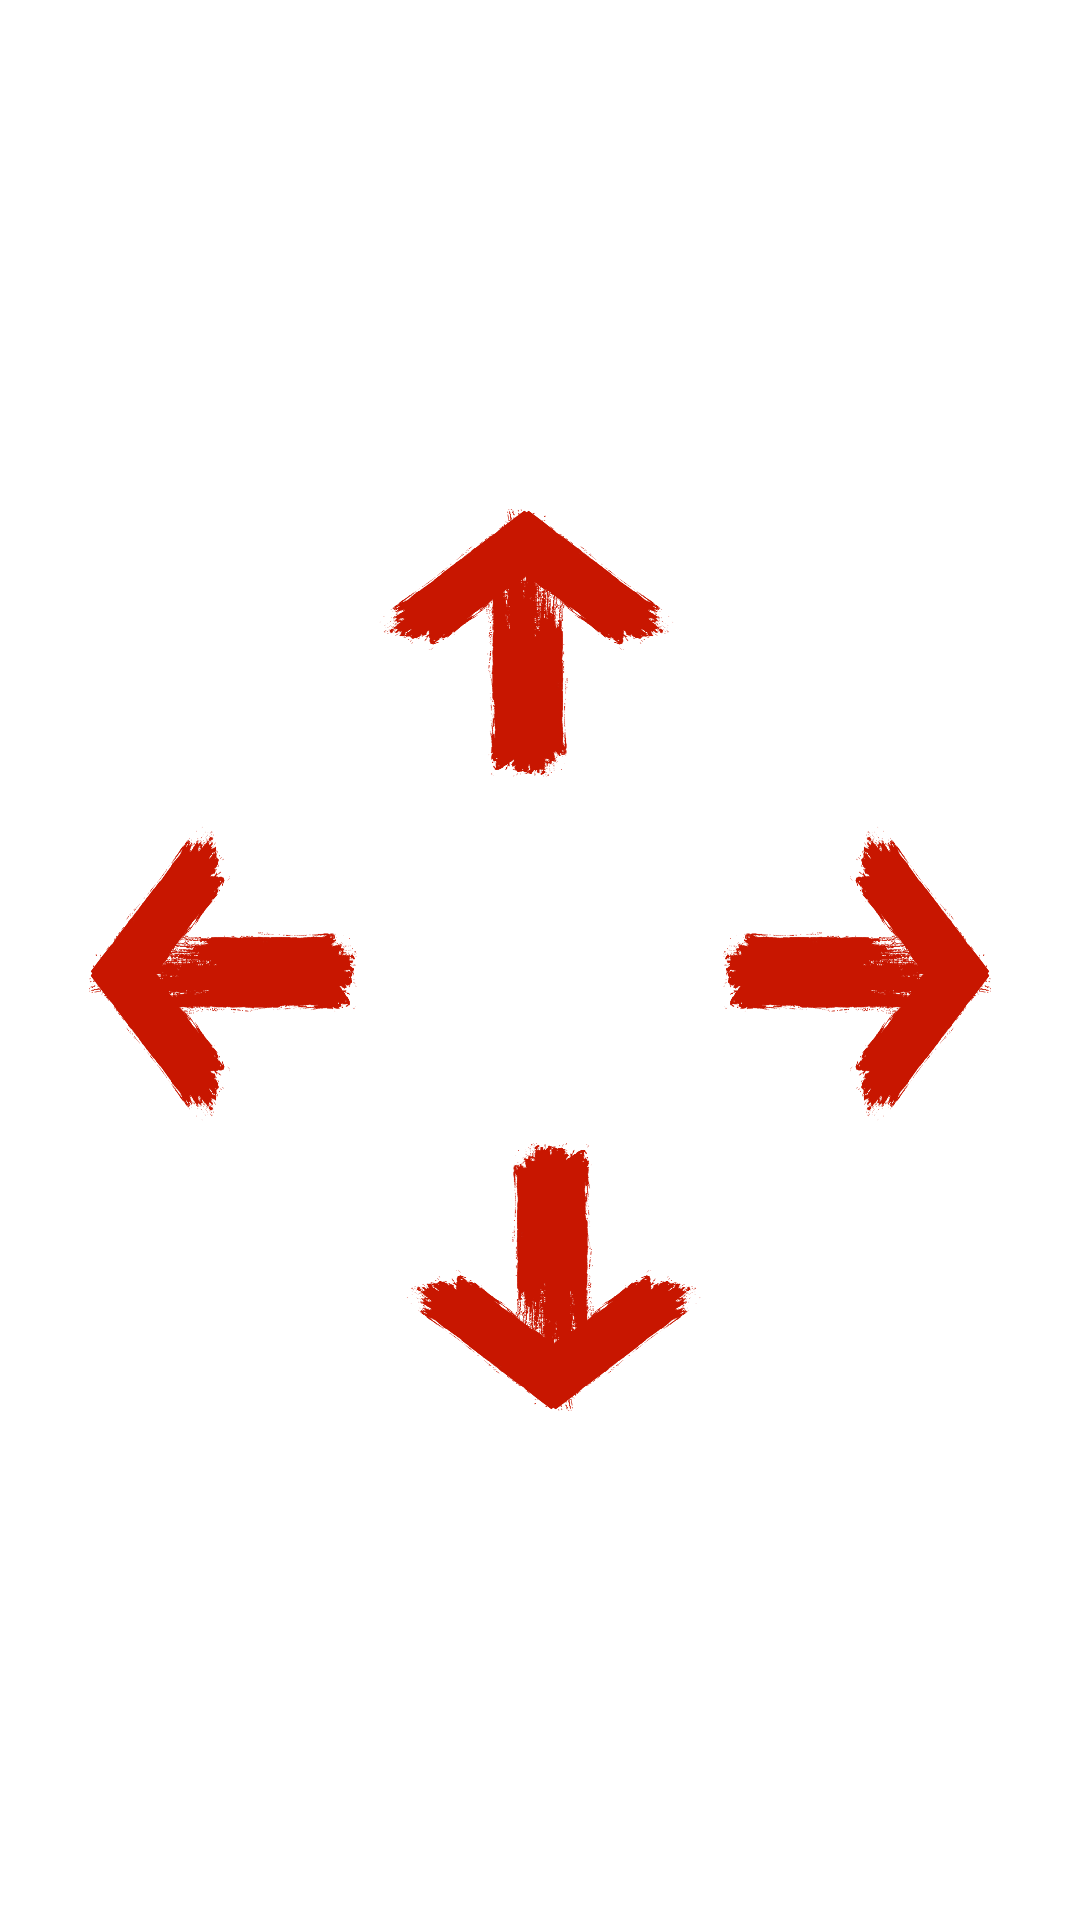

Icon bounding boxes for this 1080*1920 phone screenshot, format (x1, y1, x2, y2):
bottom: (407, 1143, 700, 1411)
left: (89, 827, 357, 1117)
right: (723, 827, 991, 1117)
top: (383, 509, 673, 777)
